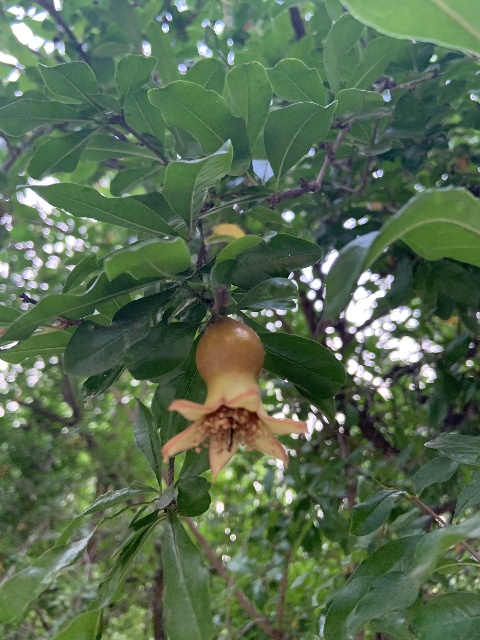early-fruit: (160, 317, 309, 483)
